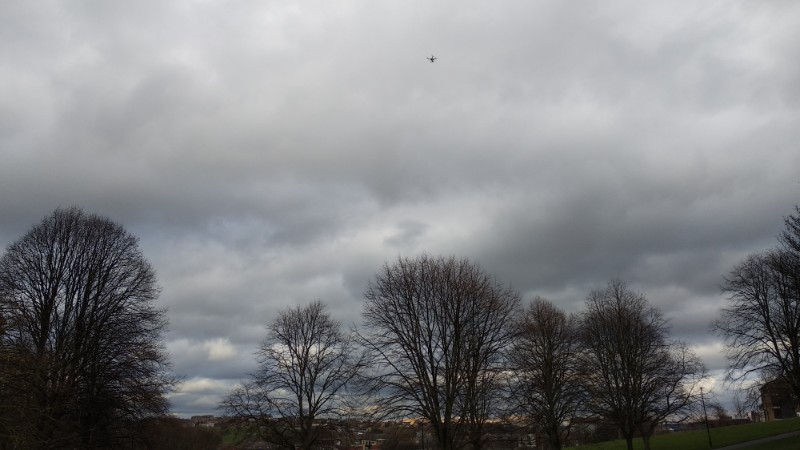drone: (426, 55, 437, 62)
